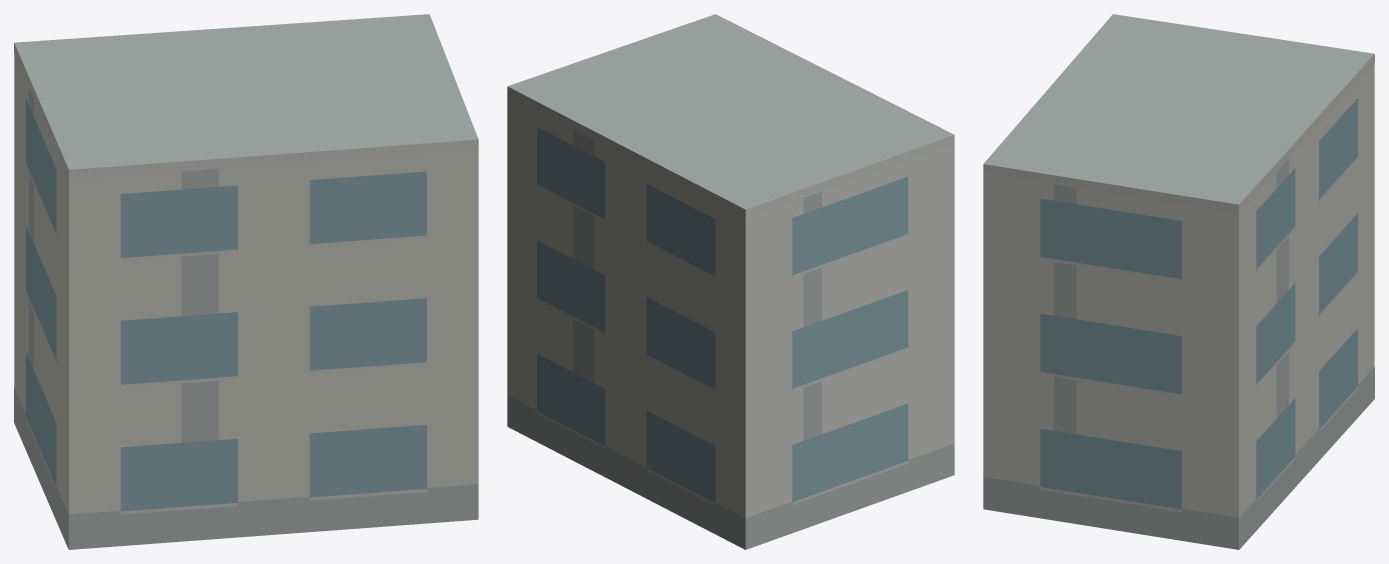
The model's file is survey-upis-32844603.glb.
The picture shows the model from 3 angles, left to right: view 1: azimuth 30°, elevation 25°; view 2: azimuth 150°, elevation 25°; view 3: azimuth 270°, elevation 25°; orthographic projection. The views are drawn at different scales.
Parts seen in each view (by area): view 1: survey-upis-32844603.tmp; view 2: survey-upis-32844603.tmp; view 3: survey-upis-32844603.tmp.
Boxes of the visible parts, <box> form: survey-upis-32844603.tmp: <box>14,14,478,549</box>; survey-upis-32844603.tmp: <box>507,14,954,549</box>; survey-upis-32844603.tmp: <box>983,14,1374,549</box>.
Bounding box in the file's own units: 10.85 × 9.15 × 9.41.
